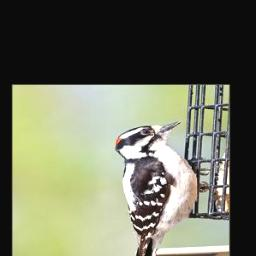Woodpecker: (112, 121, 211, 256)
